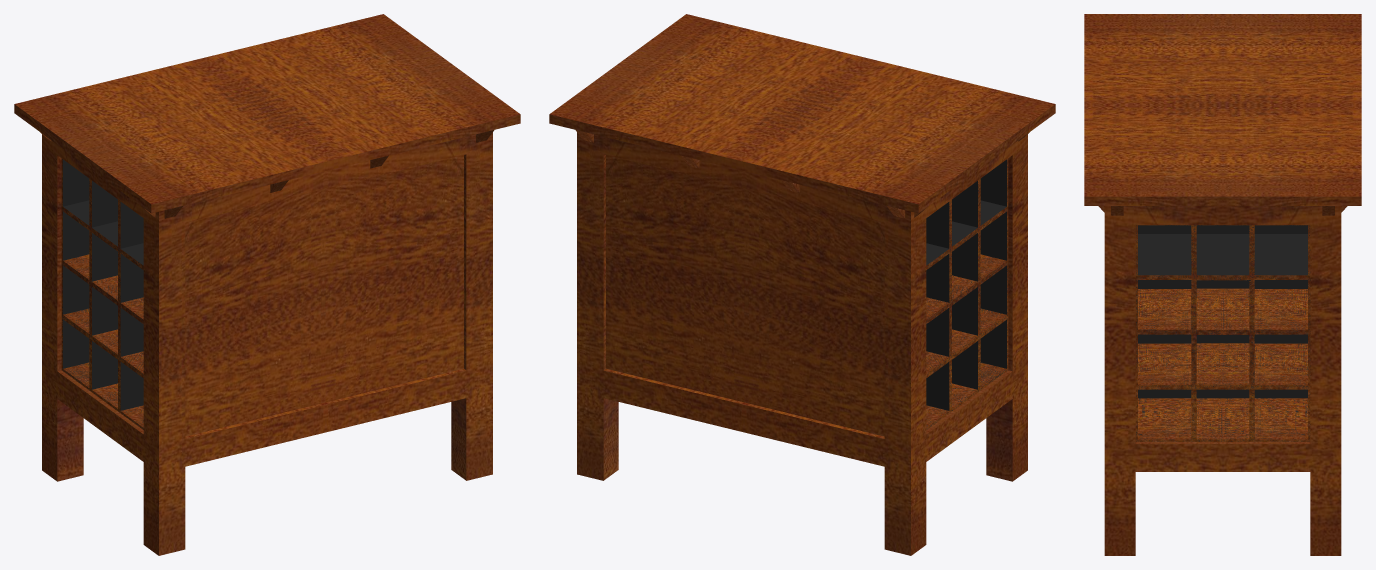
The picture shows the model from 3 angles, left to right: view 1: azimuth 30°, elevation 25°; view 2: azimuth 150°, elevation 25°; view 3: azimuth 270°, elevation 25°; orthographic projection.
Parts seen in each view (by area): view 1: mesh15_mesh15-geometry, mesh5_mesh5-geometry, mesh16_mesh16-geometry, mesh6_mesh6-geometry; view 2: mesh5_mesh5-geometry, mesh15_mesh15-geometry, mesh6_mesh6-geometry, mesh16_mesh16-geometry; view 3: mesh5_mesh5-geometry, mesh15_mesh15-geometry, mesh6_mesh6-geometry, mesh16_mesh16-geometry.
Part boxes in pixels (x1,y1,x2,y2): mesh15_mesh15-geometry: (42,132,492,481); mesh5_mesh5-geometry: (100,171,325,555); mesh16_mesh16-geometry: (14,59,520,168); mesh6_mesh6-geometry: (83,14,451,213); mesh5_mesh5-geometry: (577,132,1027,481); mesh15_mesh15-geometry: (744,171,969,555); mesh6_mesh6-geometry: (549,59,1055,168); mesh16_mesh16-geometry: (618,14,986,213); mesh5_mesh5-geometry: (1223,206,1341,555); mesh15_mesh15-geometry: (1104,206,1222,555); mesh6_mesh6-geometry: (1084,14,1361,205); mesh16_mesh16-geometry: (1084,14,1361,205).
Size of the model in its own units: 0.6597 by 0.6204 by 0.4241.
